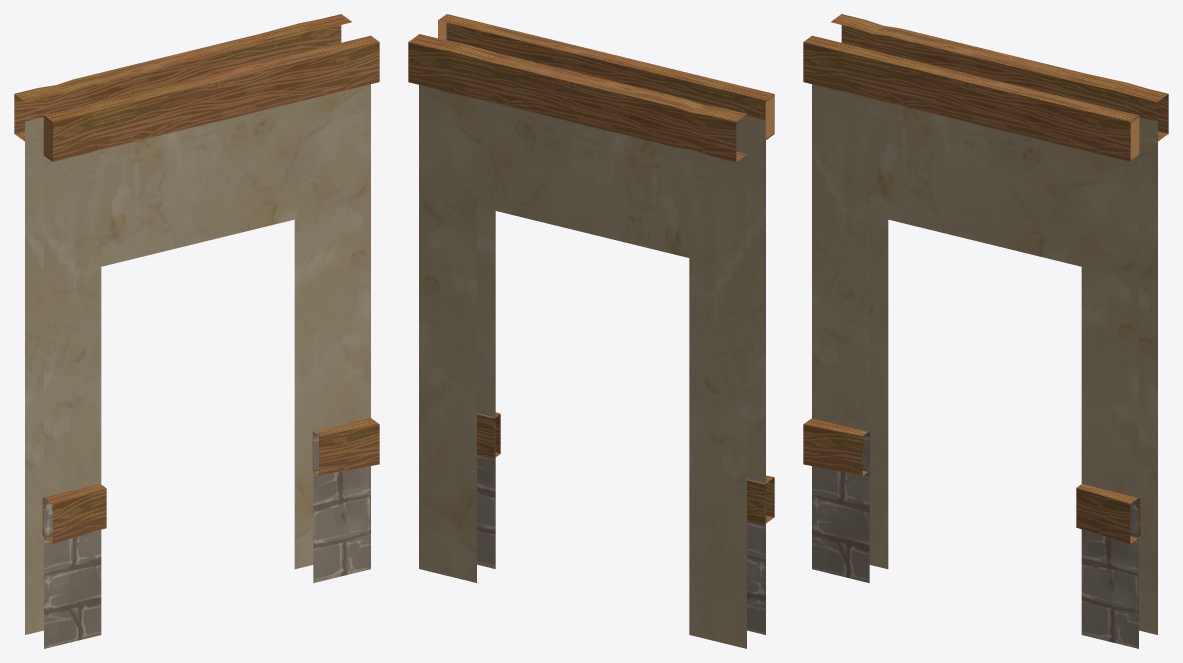
The model's file is Wall_Plaster_Door_Flat.gltf.
3 views of the same model, side by side, from view 1: azimuth 30°, elevation 25°; view 2: azimuth 150°, elevation 25°; view 3: azimuth 330°, elevation 25° (orthographic).
Parts seen in each view (by area): view 1: Wall_Plaster_Door_Flat; view 2: Wall_Plaster_Door_Flat; view 3: Wall_Plaster_Door_Flat.
Part boxes in pixels (x1=…): Wall_Plaster_Door_Flat: x1=14, y1=14, x2=379, y2=648; Wall_Plaster_Door_Flat: x1=408, y1=14, x2=774, y2=648; Wall_Plaster_Door_Flat: x1=803, y1=14, x2=1168, y2=648.
Size of the model in its own units: 2 by 3.12 by 0.4065.
3 materials, 3 textured.
